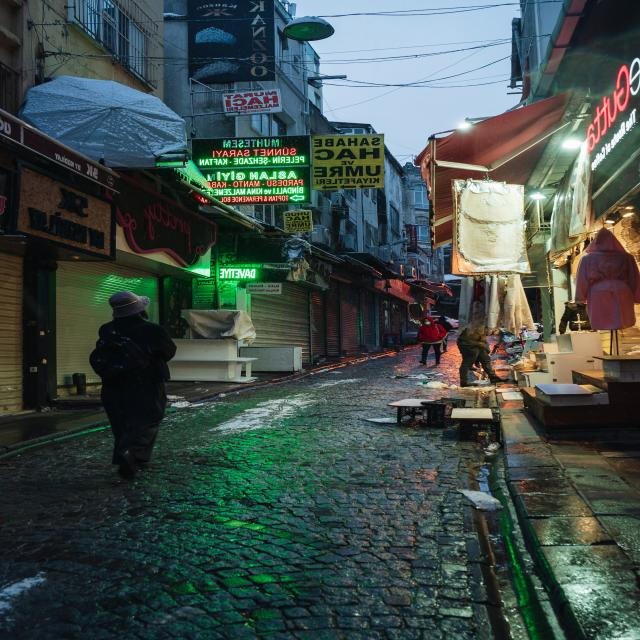adult: (99, 292, 173, 476), (419, 317, 446, 364)
